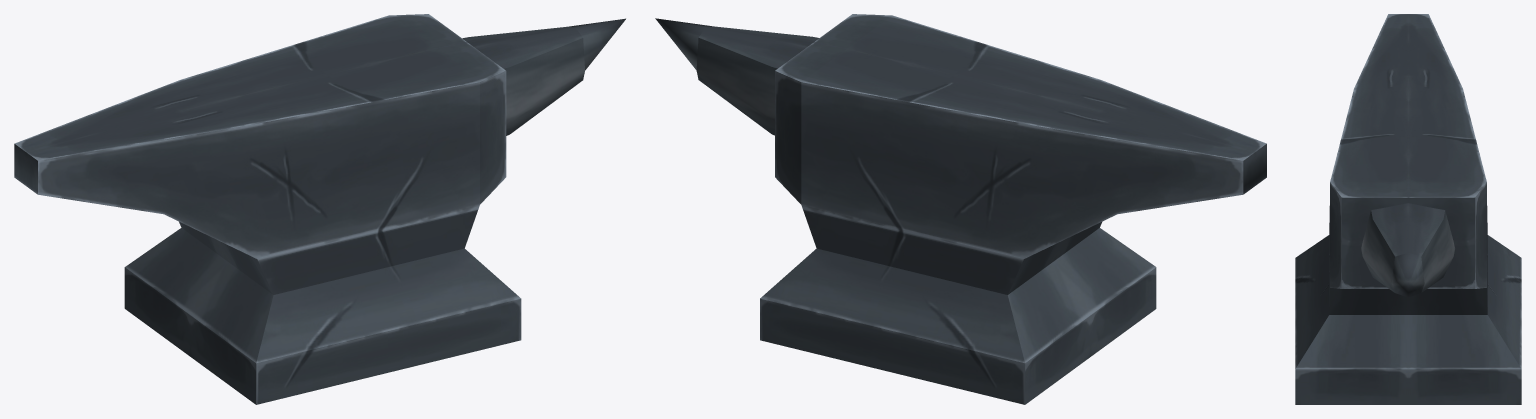
Rendered from anvil.FBX.
The picture shows the model from 3 angles, left to right: view 1: azimuth 30°, elevation 25°; view 2: azimuth 150°, elevation 25°; view 3: azimuth 270°, elevation 25°; orthographic projection. The views are drawn at different scales.
Parts seen in each view (by area): view 1: Box050; view 2: Box050; view 3: Box050.
Part boxes in pixels (left/top/right/bottom): Box050: left=14, top=14, right=625, bottom=404; Box050: left=655, top=14, right=1266, bottom=404; Box050: left=1295, top=14, right=1521, bottom=404.
Size of the model in its own units: 283 by 112 by 107.
